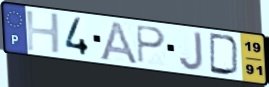4: (63, 15, 92, 59)
A: (97, 19, 140, 66)
D: (208, 31, 242, 78)
H: (24, 10, 63, 55)
J: (178, 30, 205, 72)
P: (134, 23, 167, 65)
